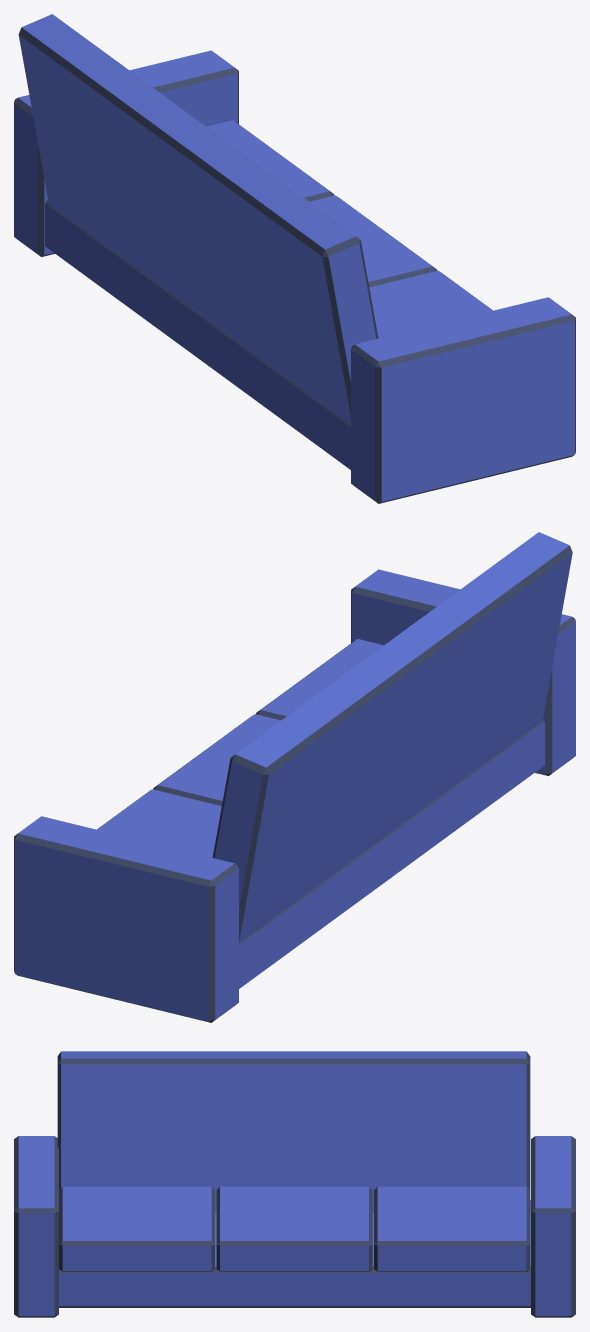
The model's file is Sofa.fbx.
3 views of the same model, one above another, from view 1: azimuth 30°, elevation 25°; view 2: azimuth 150°, elevation 25°; view 3: azimuth 270°, elevation 25° (orthographic). The views are drawn at different scales.
Parts seen in each view (by area): view 1: Sofa; view 2: Sofa; view 3: Sofa.
Boxes of the visible parts, bbox=[...] form: Sofa: bbox=[14, 14, 575, 503]; Sofa: bbox=[14, 532, 575, 1022]; Sofa: bbox=[14, 1051, 575, 1317].
Size of the model in its own units: 139 by 144 by 390.
